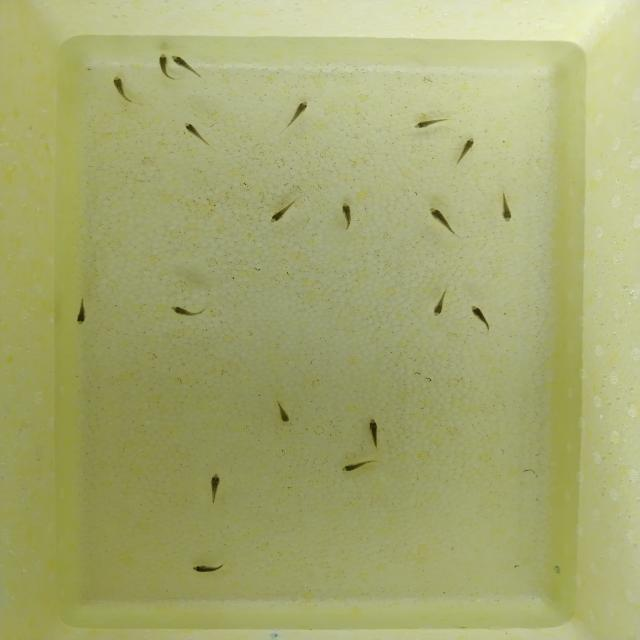fingerling: (422, 206, 462, 235), (450, 136, 481, 166), (268, 197, 300, 226), (468, 302, 494, 336), (273, 396, 297, 430), (284, 100, 312, 128), (366, 418, 388, 452), (334, 460, 381, 475), (335, 203, 360, 230), (184, 122, 212, 146), (111, 75, 133, 105), (429, 287, 449, 319), (496, 192, 517, 222), (206, 472, 225, 505), (163, 305, 215, 317), (172, 56, 203, 76), (410, 116, 452, 130), (74, 297, 90, 328), (190, 562, 228, 575), (153, 54, 170, 80)
